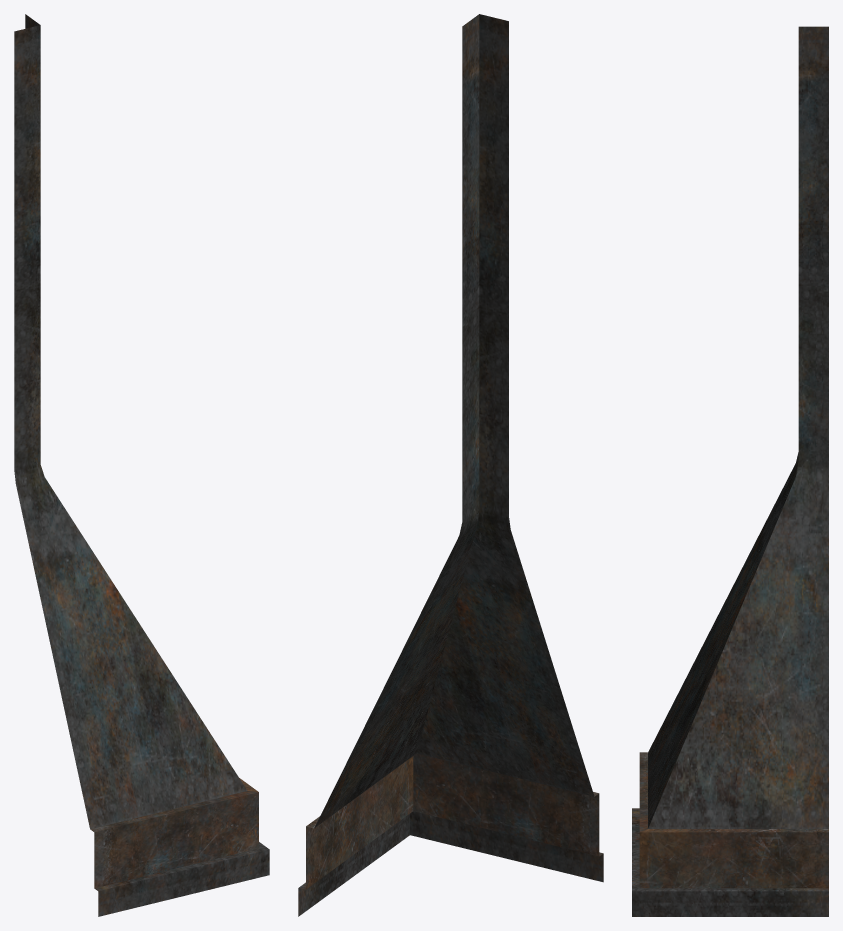
File: Basement_Corridor_C_Wall_Curveed_Corner.glb
3 views of the same model, side by side, from view 1: azimuth 30°, elevation 25°; view 2: azimuth 150°, elevation 25°; view 3: azimuth 270°, elevation 25° (orthographic). The views are drawn at different scales.
Parts seen in each view (by area): view 1: Basement_Corridor_C_Wall_Curveed_Corner; view 2: Basement_Corridor_C_Wall_Curveed_Corner; view 3: Basement_Corridor_C_Wall_Curveed_Corner.
Part boxes in pixels (x1,y1,x2,y2): Basement_Corridor_C_Wall_Curveed_Corner: (14, 14, 269, 916); Basement_Corridor_C_Wall_Curveed_Corner: (298, 14, 603, 916); Basement_Corridor_C_Wall_Curveed_Corner: (632, 26, 828, 916).
Size of the model in its own units: 0.6532 by 3 by 0.6532.
Materials: 2 (2 with a texture image).
